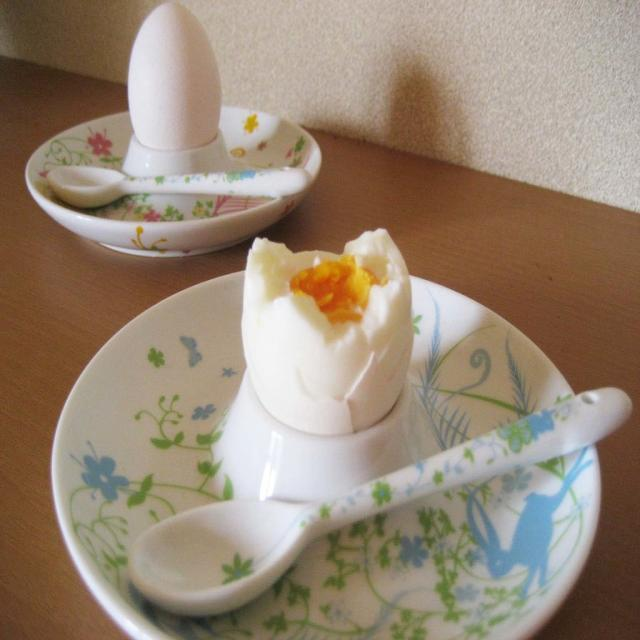Egg: (126, 0, 220, 150)
